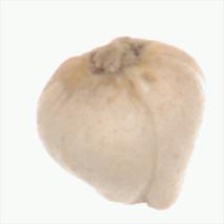L3: (112, 197, 174, 211)
L4: (37, 37, 205, 211)
